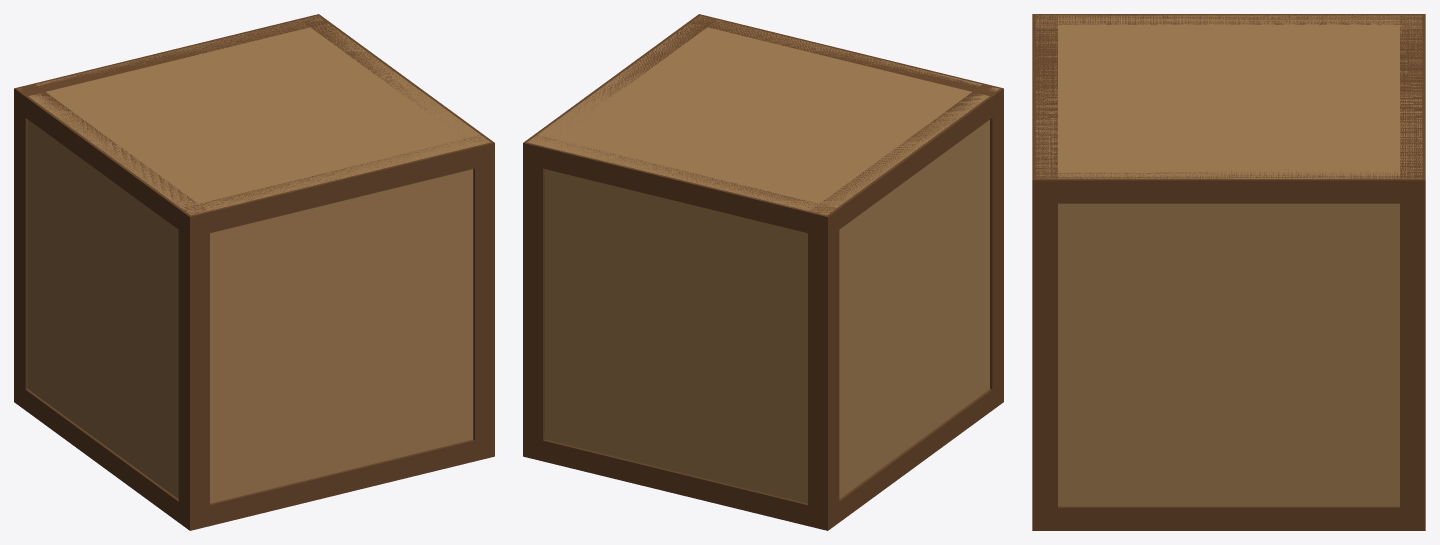
Rendered from crate.glb.
3 views of the same model, side by side, from view 1: azimuth 30°, elevation 25°; view 2: azimuth 150°, elevation 25°; view 3: azimuth 270°, elevation 25° (orthographic). The views are drawn at different scales.
Visible parts, largest first — view 1: crate; view 2: crate; view 3: crate.
Boxes of the visible parts, x1,y1,x2,y2 form: crate: (14, 14, 494, 530); crate: (523, 14, 1003, 530); crate: (1032, 14, 1425, 530).
Bounding box in the file's own units: 1.22 × 1.2 × 1.22.
